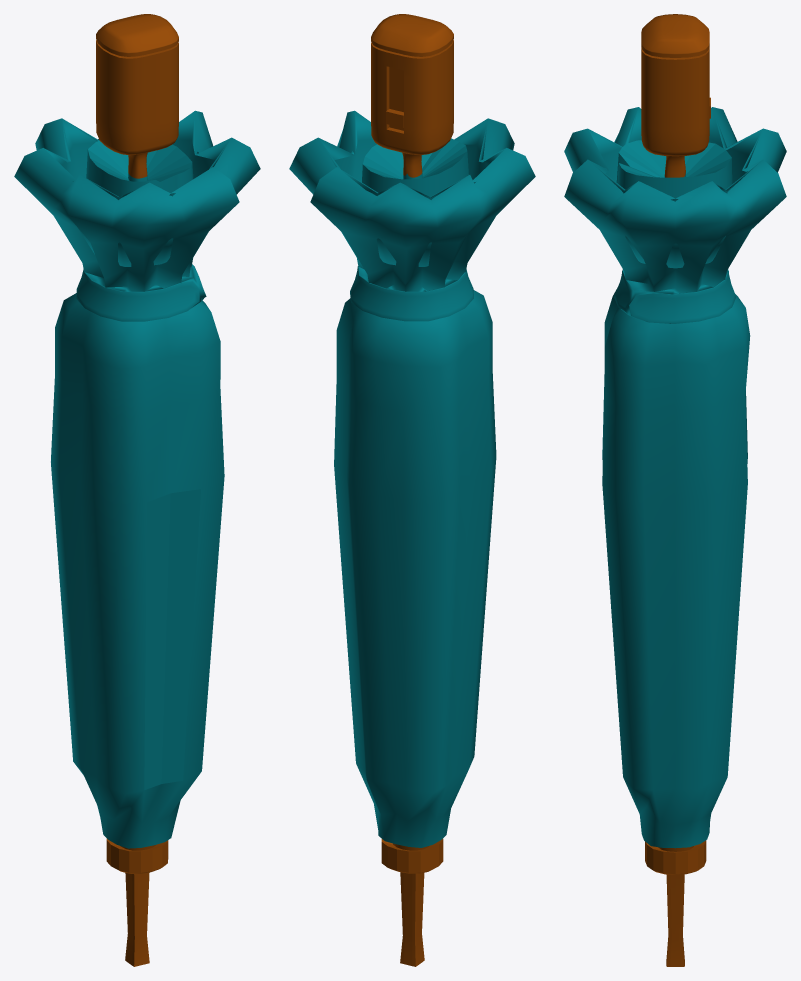
File: umbrella.fbx
3 views of the same model, side by side, from view 1: azimuth 30°, elevation 25°; view 2: azimuth 150°, elevation 25°; view 3: azimuth 270°, elevation 25° (orthographic).
Visible parts, largest first — view 1: Umbrella; view 2: Umbrella; view 3: Umbrella.
Part boxes in pixels (bbox=[...]): Umbrella: bbox=[14, 14, 260, 966]; Umbrella: bbox=[289, 14, 535, 966]; Umbrella: bbox=[564, 14, 786, 966].
Size of the model in its own units: 1.72 by 7.97 by 1.72.
